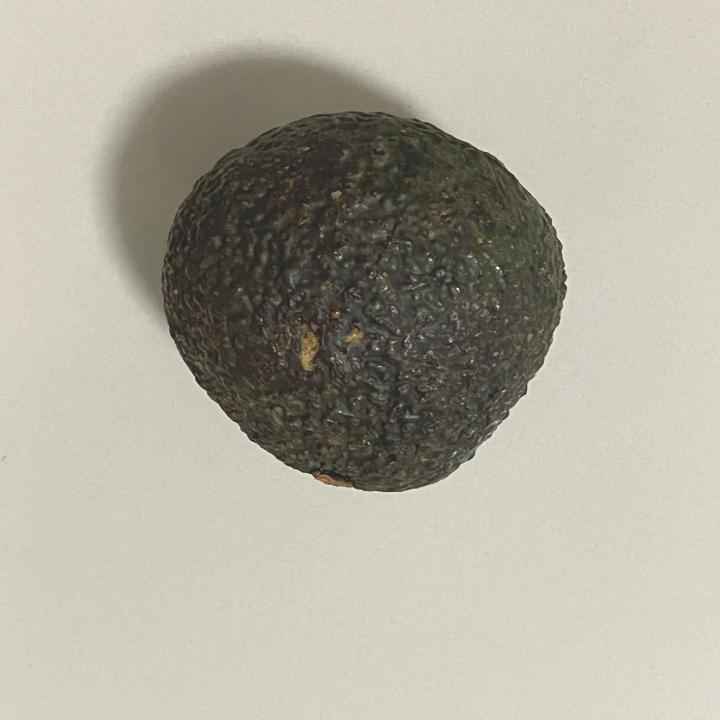Level1: (145, 96, 587, 508)
